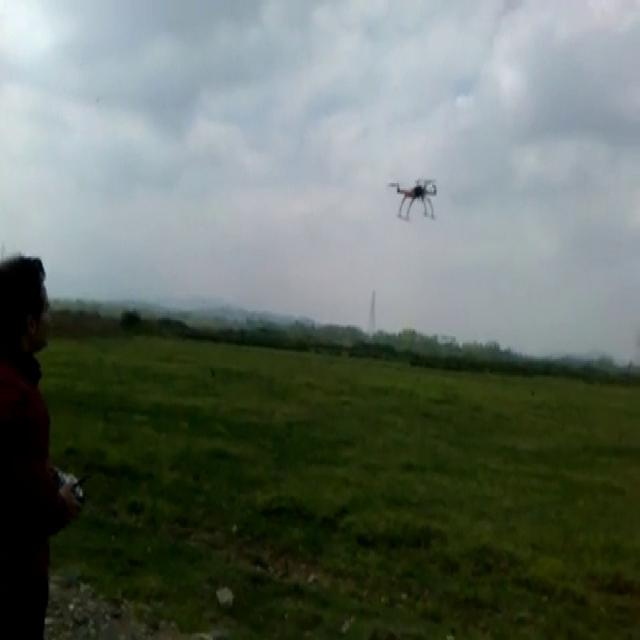drone: (387, 174, 438, 222)
